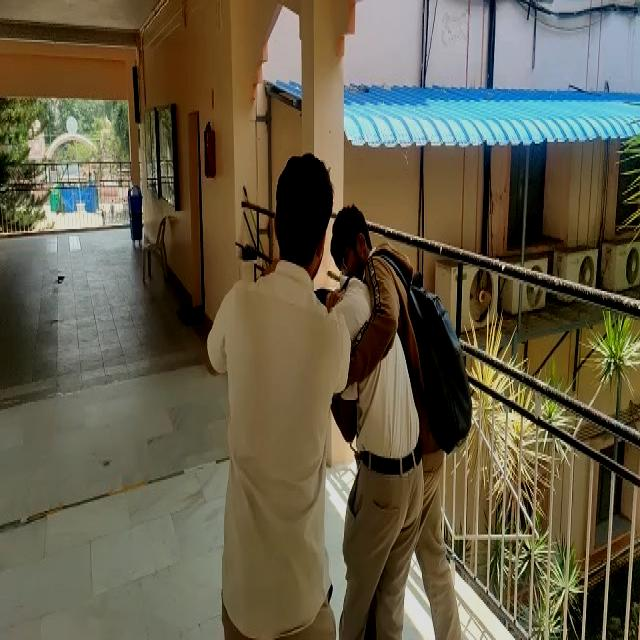fight: (149, 85, 492, 640)
